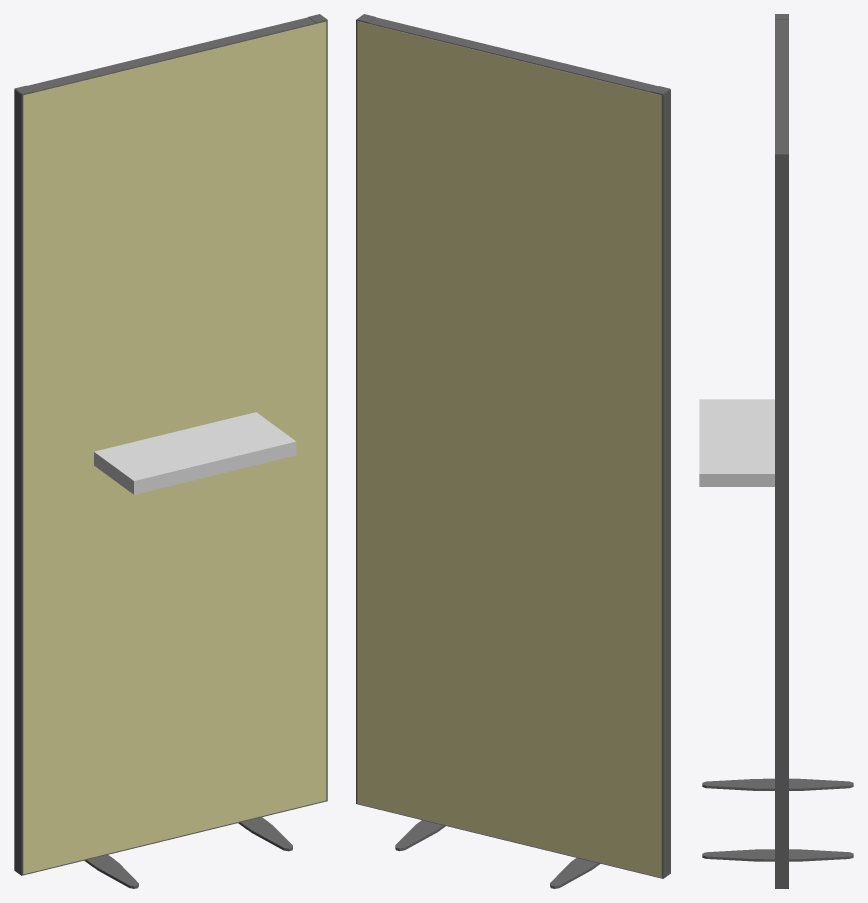
The model's file is Shelves Small Center.glb.
3 views of the same model, side by side, from view 1: azimuth 30°, elevation 25°; view 2: azimuth 150°, elevation 25°; view 3: azimuth 270°, elevation 25° (orthographic). The views are drawn at different scales.
Visible parts, largest first — view 1: Standard 38.028, Cube.006, toggle_feet_center.011; view 2: toggle_back_panel.013, Standard 38.028, toggle_feet_center.011; view 3: Standard 38.028, Cube.006, toggle_feet_center.011, toggle_feet_edge.009.
Boxes of the visible parts, left/top/right/bottom form: Standard 38.028: left=14, top=14, right=327, bottom=875; Cube.006: left=94, top=412, right=296, bottom=494; toggle_feet_center.011: left=84, top=817, right=288, bottom=883; toggle_back_panel.013: left=357, top=21, right=661, bottom=877; Standard 38.028: left=356, top=14, right=670, bottom=878; toggle_feet_center.011: left=395, top=820, right=600, bottom=888; Standard 38.028: left=775, top=14, right=788, bottom=888; Cube.006: left=699, top=399, right=774, bottom=486; toggle_feet_center.011: left=710, top=778, right=853, bottom=861; toggle_feet_edge.009: left=702, top=779, right=762, bottom=861.
Size of the model in its own units: 0.969 by 2.37 by 0.4503.
